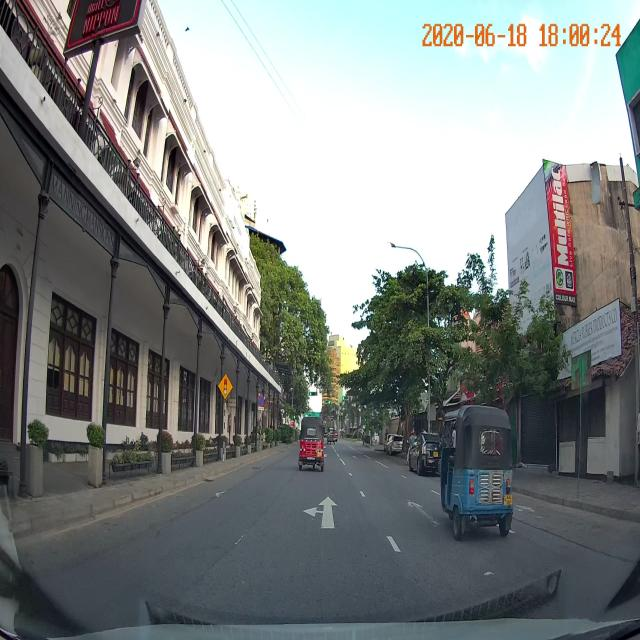forward_lft: (236, 484, 403, 543)
